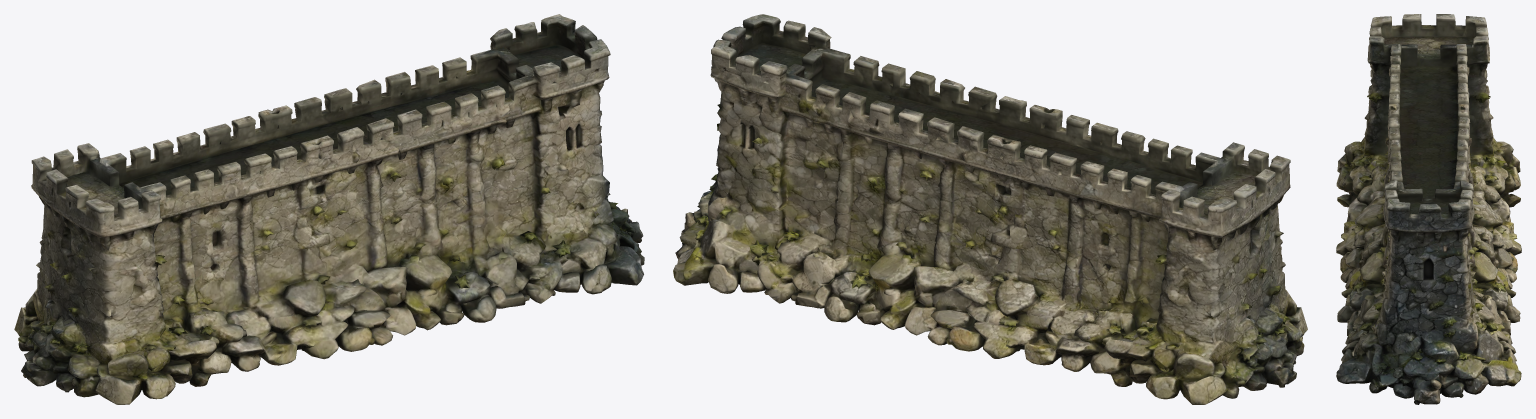
The model's file is fort_citadel_wall.glb.
3 renders of one model, left to right at view 1: azimuth 30°, elevation 25°; view 2: azimuth 150°, elevation 25°; view 3: azimuth 270°, elevation 25°, orthographic. The views are drawn at different scales.
Visible parts, largest first — view 1: tripo_node_bf2bdb35-e700-46ce-b0a3-5615b32368d4; view 2: tripo_node_bf2bdb35-e700-46ce-b0a3-5615b32368d4; view 3: tripo_node_bf2bdb35-e700-46ce-b0a3-5615b32368d4.
Part boxes in pixels (x1,y1,x2,y2): tripo_node_bf2bdb35-e700-46ce-b0a3-5615b32368d4: (14,14,644,404); tripo_node_bf2bdb35-e700-46ce-b0a3-5615b32368d4: (673,14,1307,404); tripo_node_bf2bdb35-e700-46ce-b0a3-5615b32368d4: (1336,14,1521,404).
Size of the model in its own units: 1 by 0.3435 by 0.3193.
Materials: 1 (1 with a texture image).
